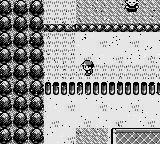main: (81, 60, 94, 76)
no-caminable: (1, 2, 43, 143), (44, 82, 160, 95), (112, 128, 158, 143)
npc: (125, 0, 139, 12)
salto: (44, 24, 160, 32)
